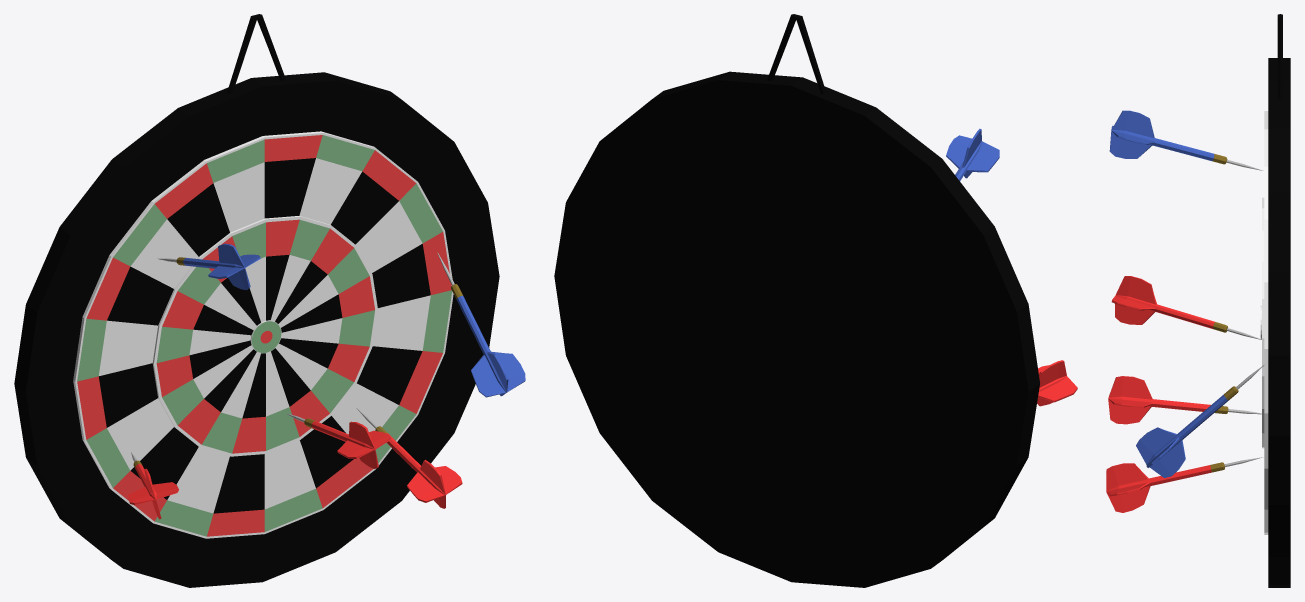
File: darts.fbx
The picture shows the model from 3 angles, left to right: view 1: azimuth 30°, elevation 25°; view 2: azimuth 150°, elevation 25°; view 3: azimuth 270°, elevation 25°; orthographic projection. The views are drawn at different scales.
Parts seen in each view (by area): view 1: darts; view 2: darts; view 3: darts.
Part boxes in pixels (bbox=[...]): darts: bbox=[14, 14, 525, 587]; darts: bbox=[554, 14, 1077, 587]; darts: bbox=[1106, 14, 1290, 587].
Bounding box in the file's own units: 12.35 × 13.99 × 4.27.
Materials: 1 (1 with a texture image).
